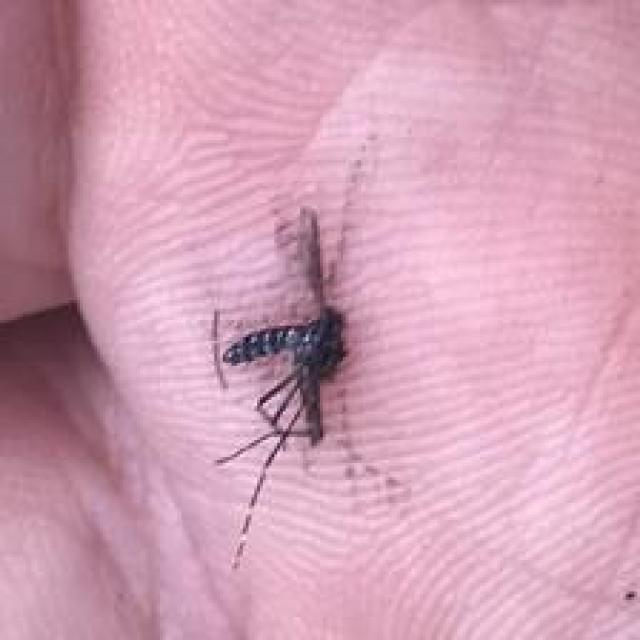Aedes albopictus: (207, 204, 350, 570)
